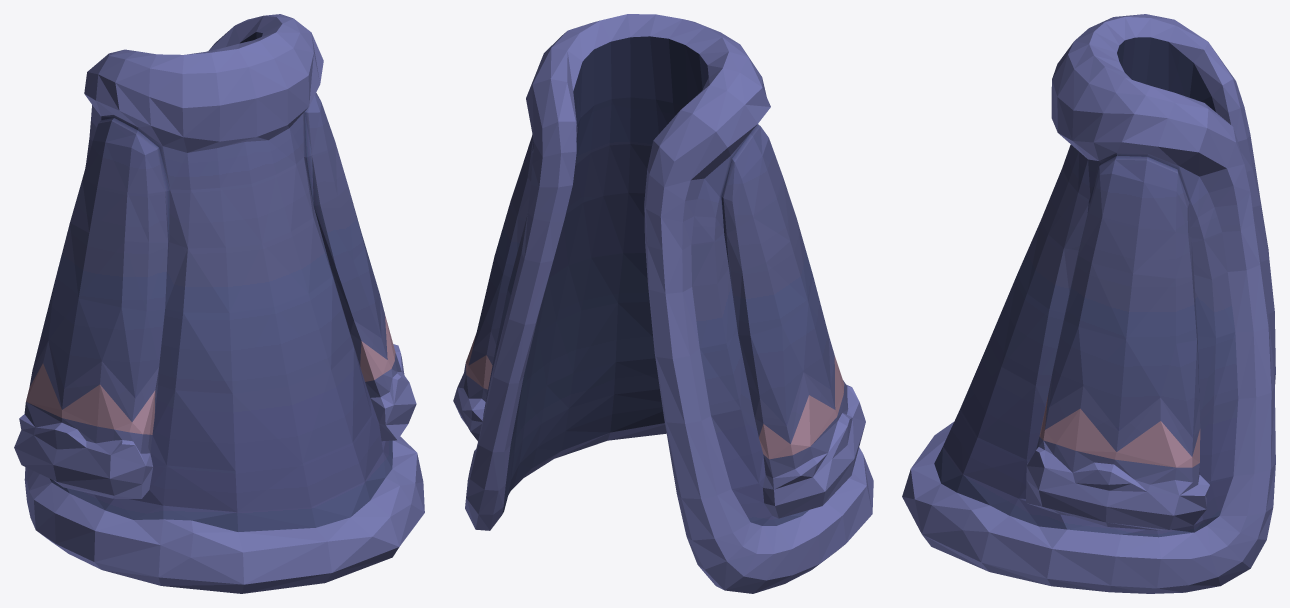
Rendered from CharSkyKid_Wing_StyleFurCoat.glb.
3 views of the same model, side by side, from view 1: azimuth 30°, elevation 25°; view 2: azimuth 150°, elevation 25°; view 3: azimuth 270°, elevation 25° (orthographic). The views are drawn at different scales.
Parts seen in each view (by area): view 1: CharSkyKid_Wing_StyleFurCoat; view 2: CharSkyKid_Wing_StyleFurCoat; view 3: CharSkyKid_Wing_StyleFurCoat.
Boxes of the visible parts, x1,y1,x2,y2 form: CharSkyKid_Wing_StyleFurCoat: (14, 14, 424, 593); CharSkyKid_Wing_StyleFurCoat: (453, 14, 873, 593); CharSkyKid_Wing_StyleFurCoat: (902, 14, 1275, 593).
Bounding box in the file's own units: 6.19 × 7.83 × 5.55.
1 material, 1 textured.
